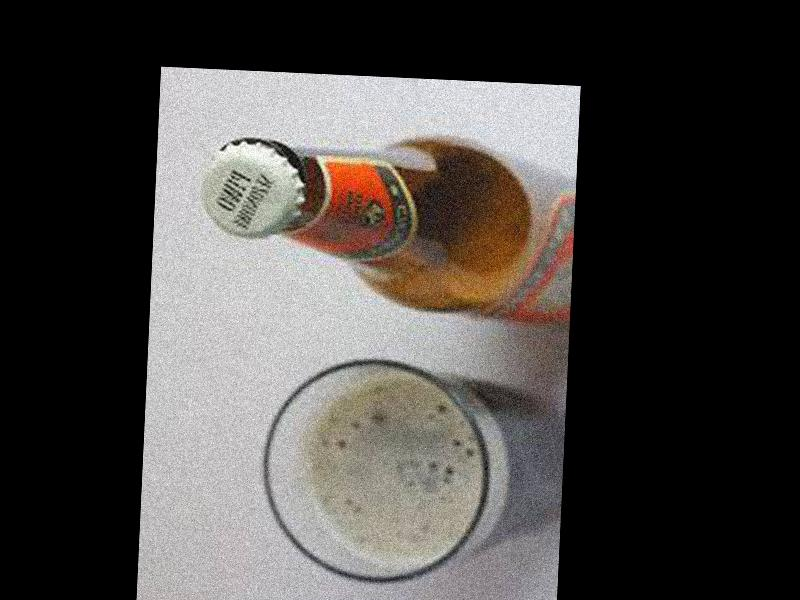Beer: (196, 126, 578, 328)
